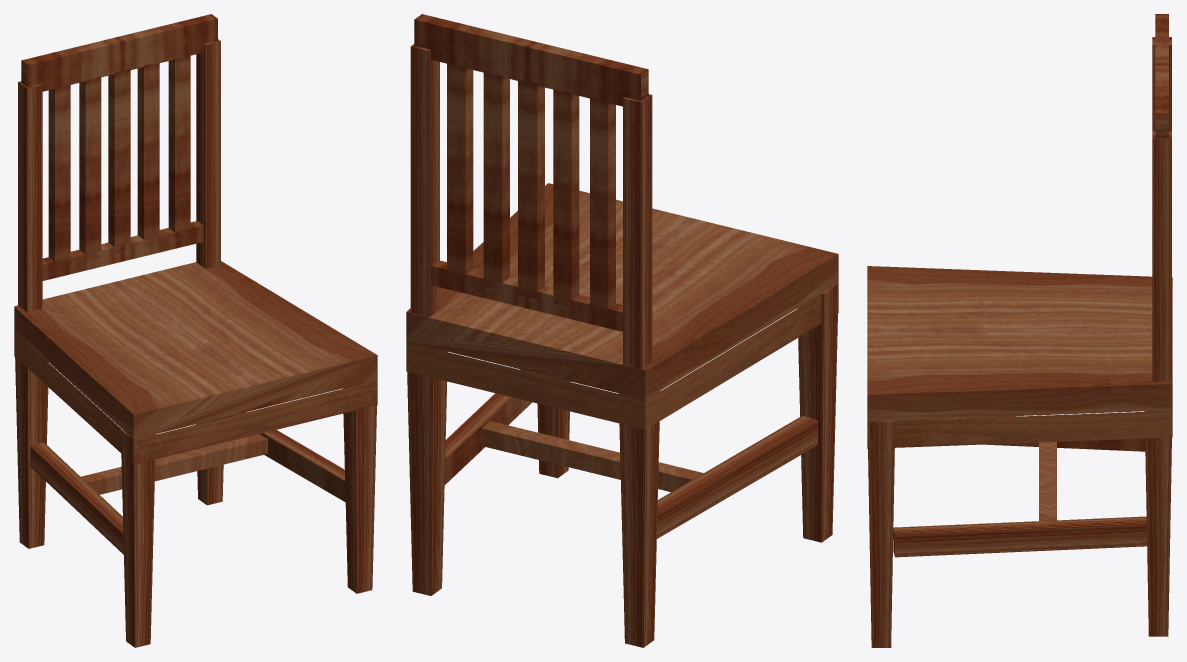
Rendered from chair_wood.gltf.
3 views of the same model, side by side, from view 1: azimuth 30°, elevation 25°; view 2: azimuth 150°, elevation 25°; view 3: azimuth 270°, elevation 25° (orthographic). The views are drawn at different scales.
Visible parts, largest first — view 1: Chaise Bois; view 2: Chaise Bois; view 3: Chaise Bois.
Part boxes in pixels (x1,y1,x2,y2): Chaise Bois: (14,14,377,647); Chaise Bois: (406,14,838,647); Chaise Bois: (867,14,1172,647).
Size of the model in its own units: 1.55 by 2.91 by 1.55.
1 material, 1 textured.
